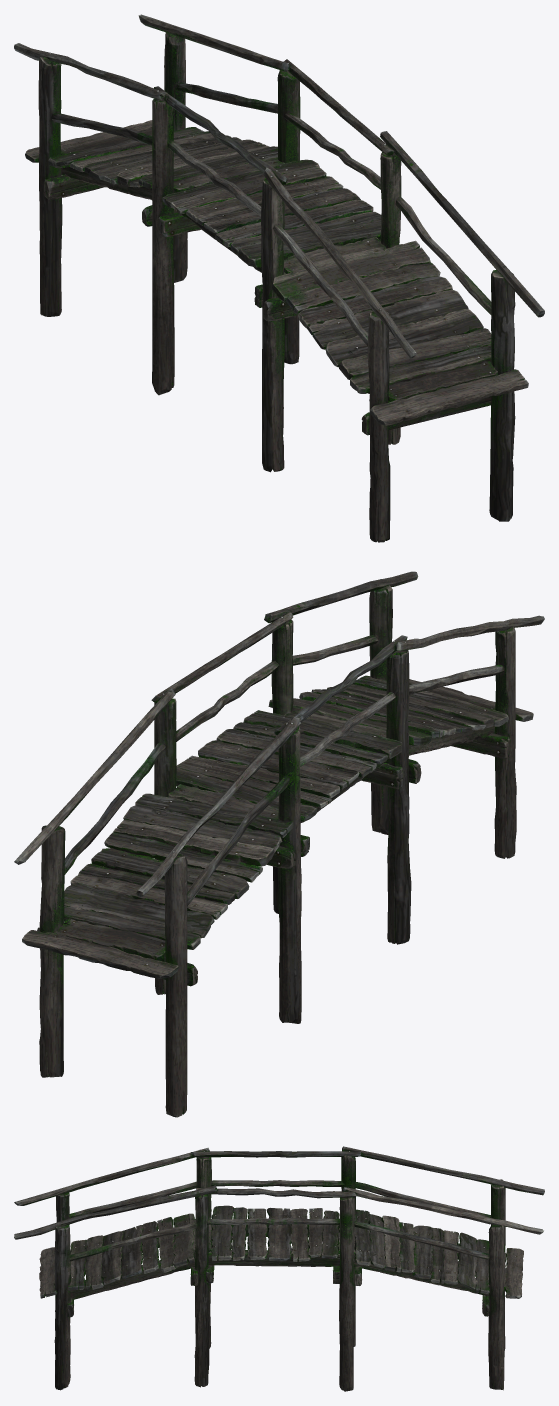
Rendered from Bridge.fbx.
3 renders of one model, top to bottom at view 1: azimuth 30°, elevation 25°; view 2: azimuth 150°, elevation 25°; view 3: azimuth 270°, elevation 25°, orthographic. The views are drawn at different scales.
Visible parts, largest first — view 1: Bridge_LOD0; view 2: Bridge_LOD0; view 3: Bridge_LOD0.
Boxes of the visible parts, x1=… form: Bridge_LOD0: x1=14, y1=14, x2=544, y2=542; Bridge_LOD0: x1=14, y1=571, x2=544, y2=1117; Bridge_LOD0: x1=14, y1=1146, x2=544, y2=1391.
Size of what is drawn, in the model's own units: 1.84 by 7.97 by 3.42.
